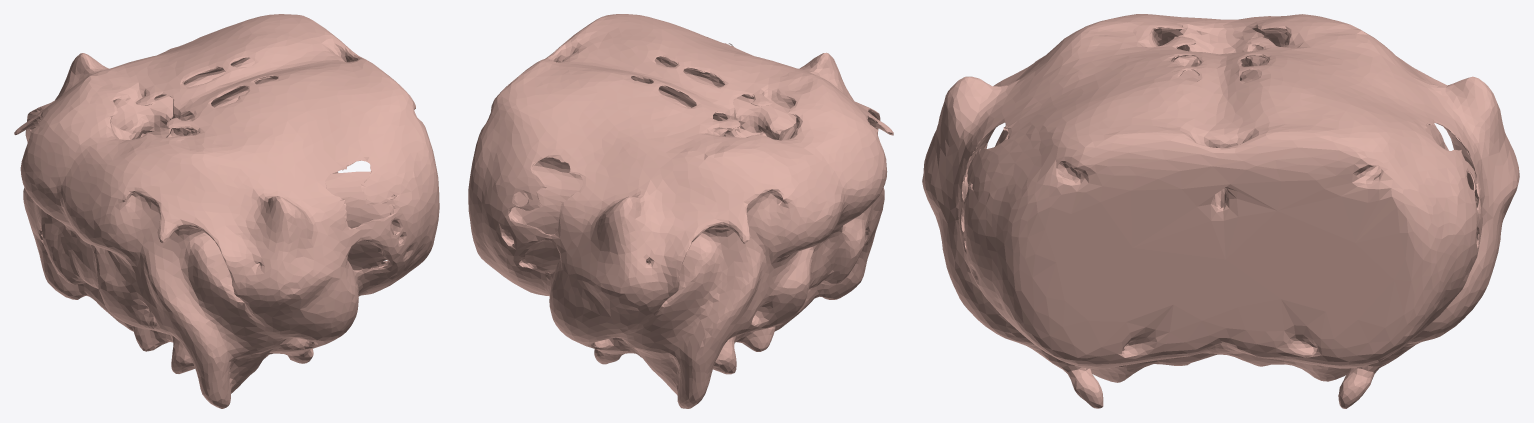
The picture shows the model from 3 angles, left to right: view 1: azimuth 30°, elevation 25°; view 2: azimuth 150°, elevation 25°; view 3: azimuth 270°, elevation 25°; orthographic projection. The views are drawn at different scales.
Parts seen in each view (by area): view 1: 1065.obj; view 2: 1065.obj; view 3: 1065.obj.
Boxes of the visible parts, box(x1,y1,x2,y2) form: 1065.obj: box(14, 14, 439, 408); 1065.obj: box(468, 14, 893, 408); 1065.obj: box(922, 14, 1519, 408).
Bounding box in the file's own units: 4651 × 4022 × 6092.
